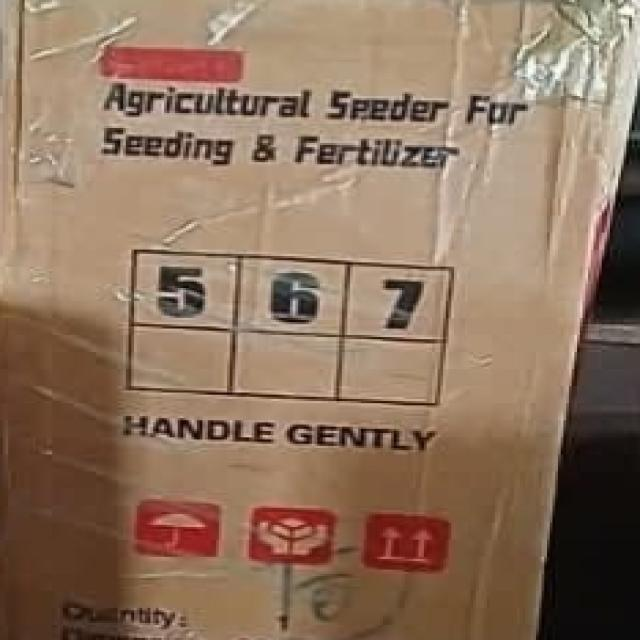carton_box: (0, 0, 640, 640)
handle_with_care_label: (244, 502, 354, 580)
keep_dry_label: (124, 493, 240, 568)
package_damage: (519, 0, 640, 102), (2, 0, 44, 175)
this_side_up_label: (351, 505, 464, 583)
